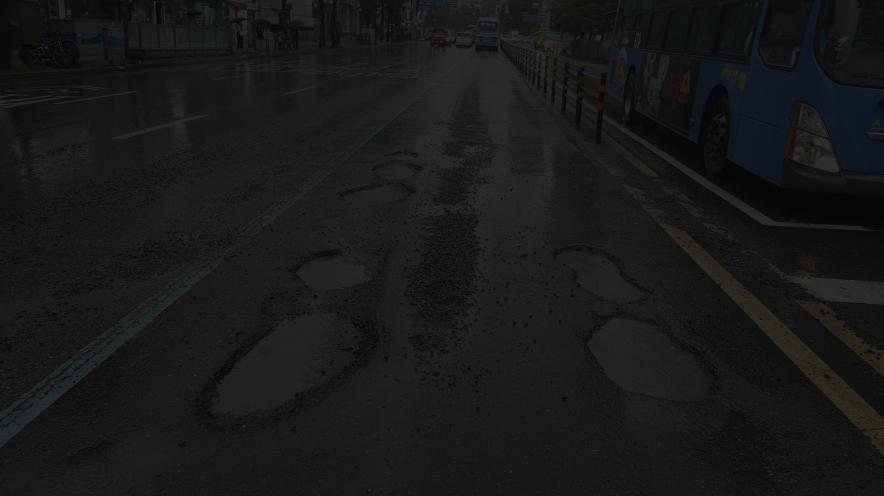pothole: (170, 303, 394, 451), (543, 306, 756, 419), (533, 227, 665, 308), (326, 136, 434, 216), (268, 242, 390, 304)
